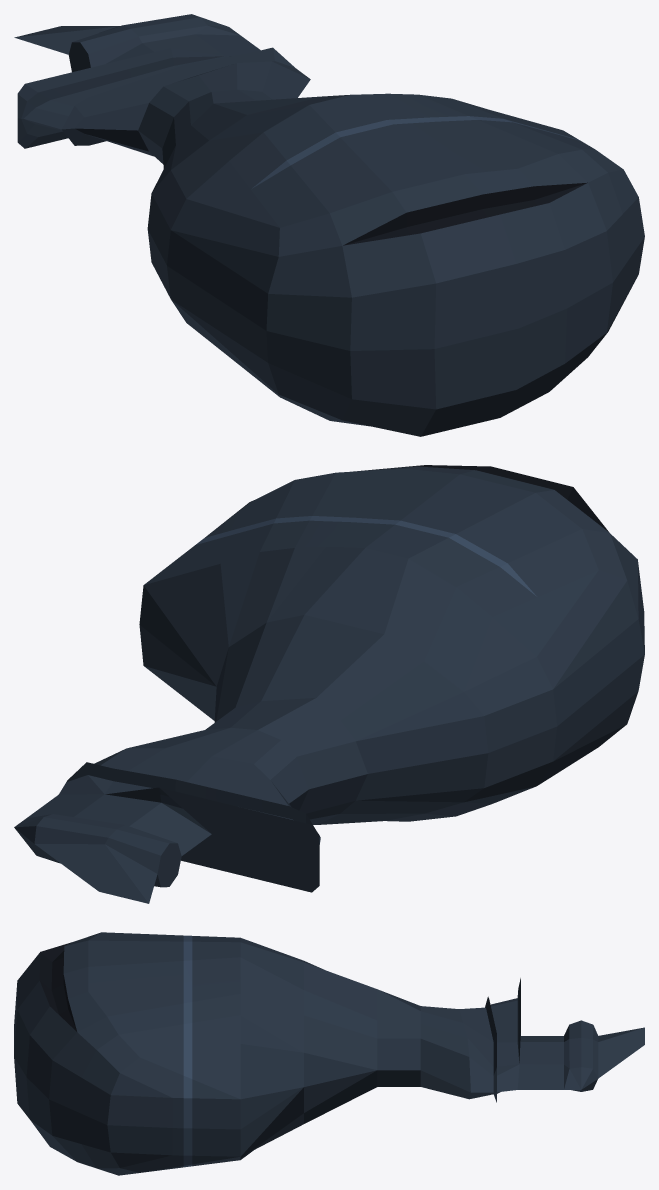
File: BigMotor.glb
3 views of the same model, one above another, from view 1: azimuth 30°, elevation 25°; view 2: azimuth 150°, elevation 25°; view 3: azimuth 270°, elevation 25° (orthographic). The views are drawn at different scales.
Parts seen in each view (by area): view 1: BigMotor; view 2: BigMotor; view 3: BigMotor.
Part boxes in pixels (x1,y1,x2,y2): BigMotor: [14, 14, 644, 436]; BigMotor: [14, 465, 644, 903]; BigMotor: [14, 932, 644, 1175].
Size of the model in its own units: 1.03 by 0.62 by 1.89.
Materials: 1 (1 with a texture image).
